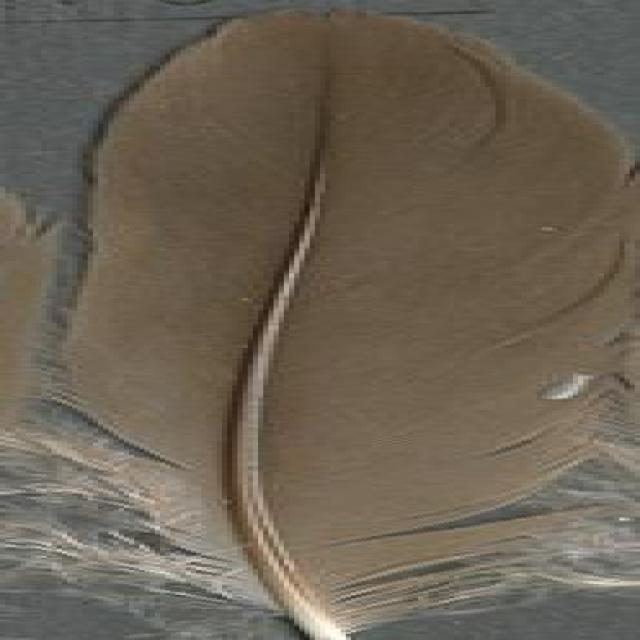feather: (51, 0, 640, 635)
